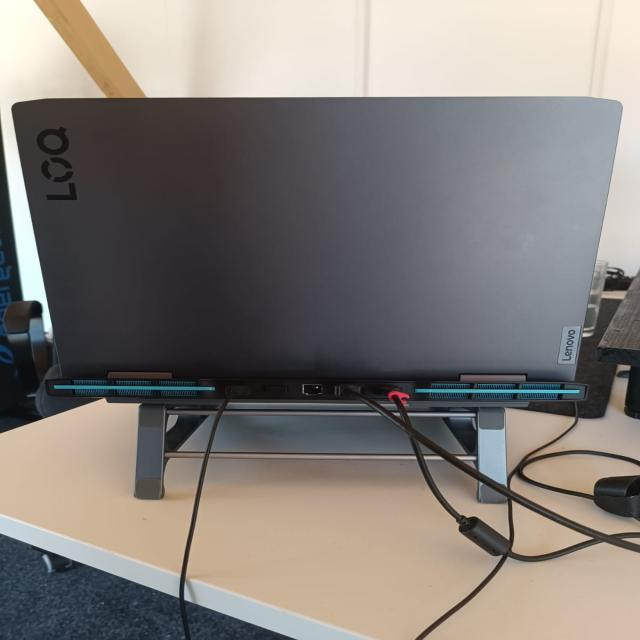Laptops_bbox: (0, 58, 640, 550)
